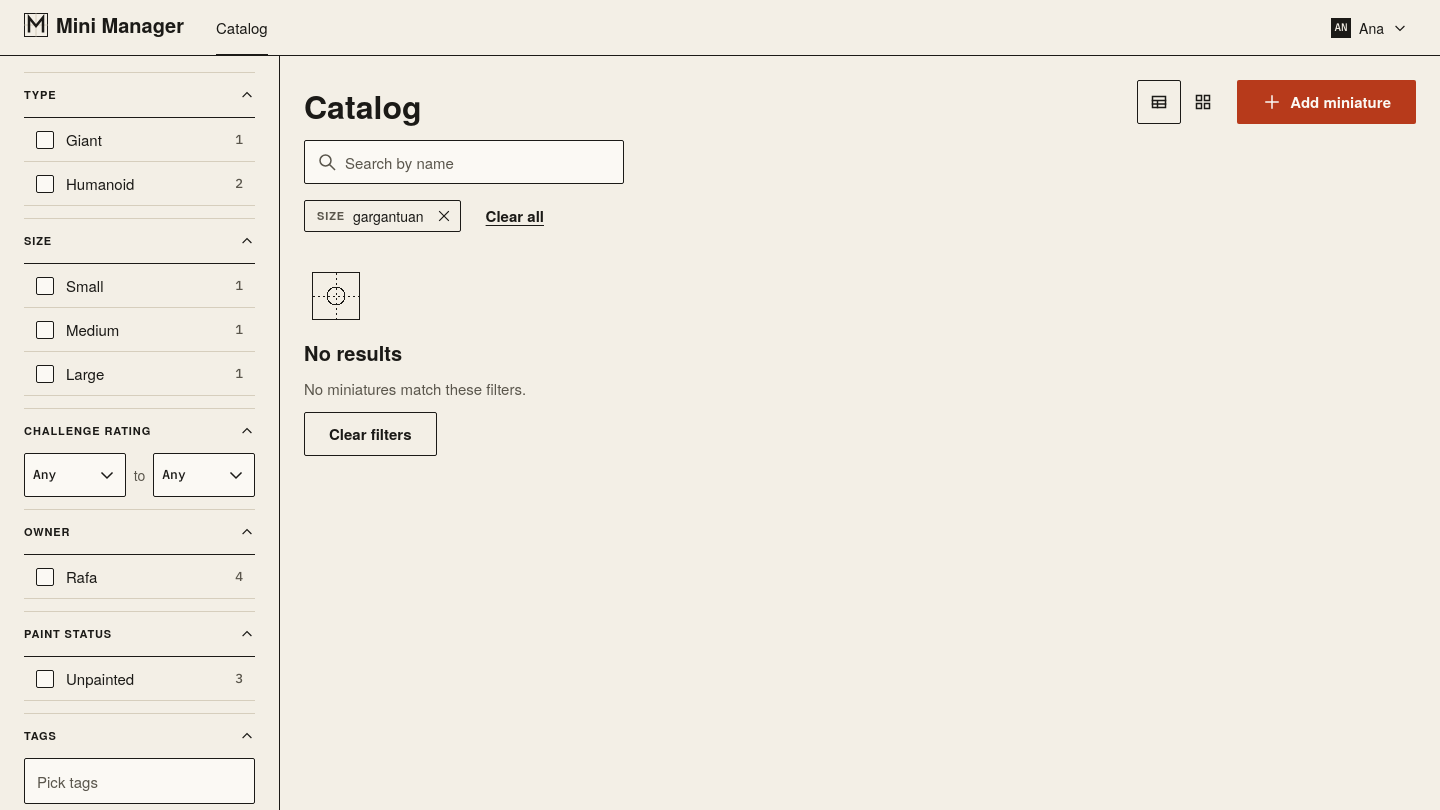
Test: ActiveFilters › says when nothing matches and offers to clear the filters
Check: the text "No miniatures match these filters." is shown, box [304,378,526,400]
Click the button "Clear filters" at (370, 434), box [304,412,436,456]
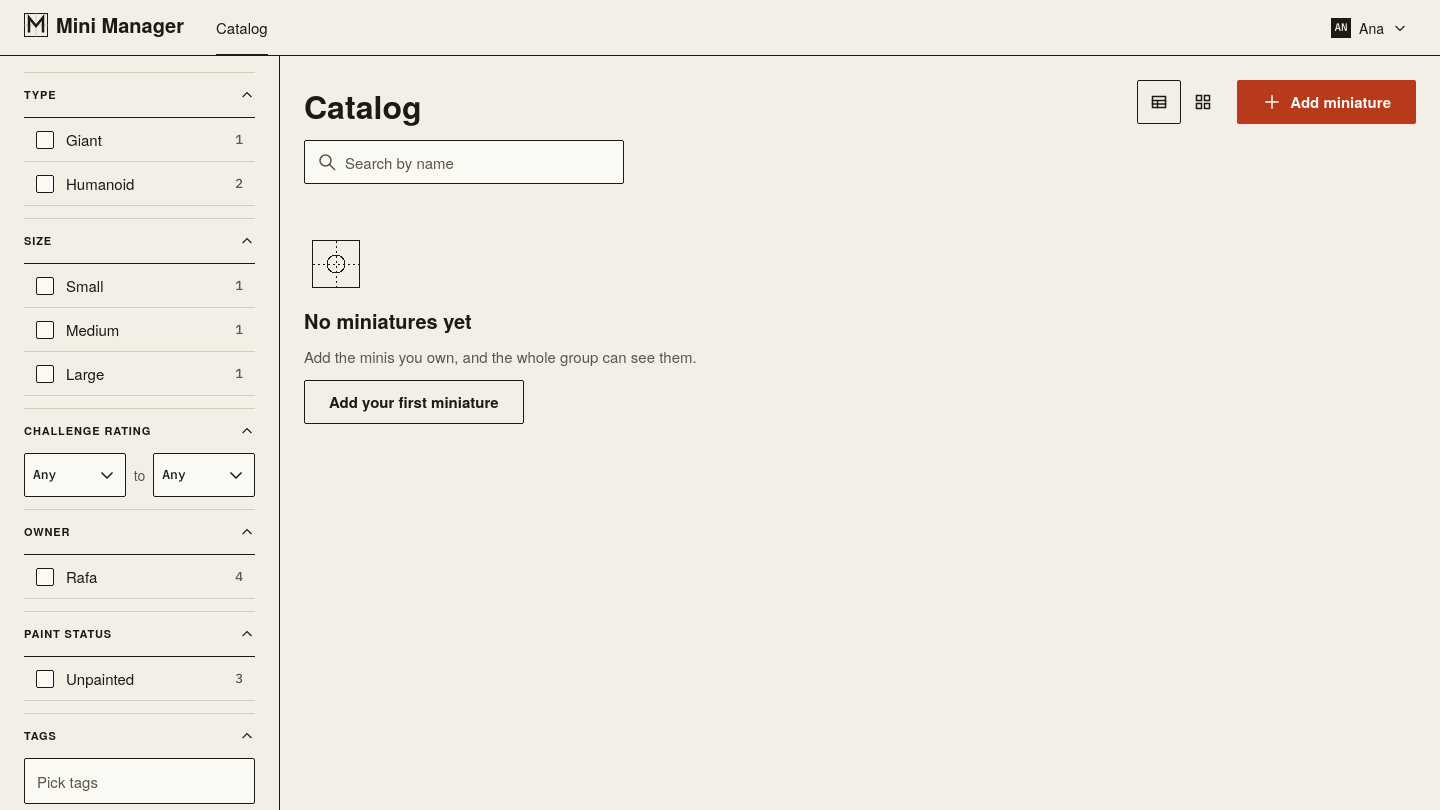
Check: the heading "No miniatures yet" is shown, box [304,308,472,334]
